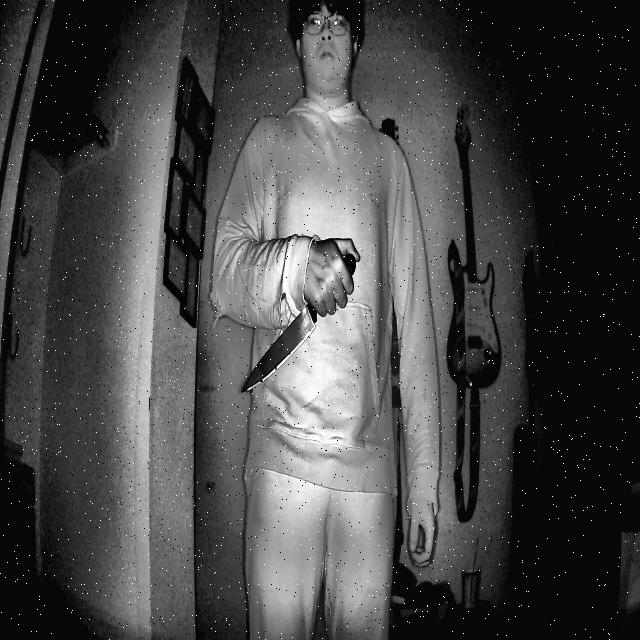knife: (239, 240, 371, 403)
